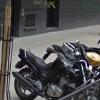Motorcycle: (15, 33, 100, 100)
